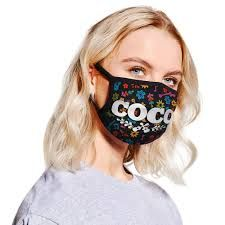with-mask: (77, 15, 193, 149)
